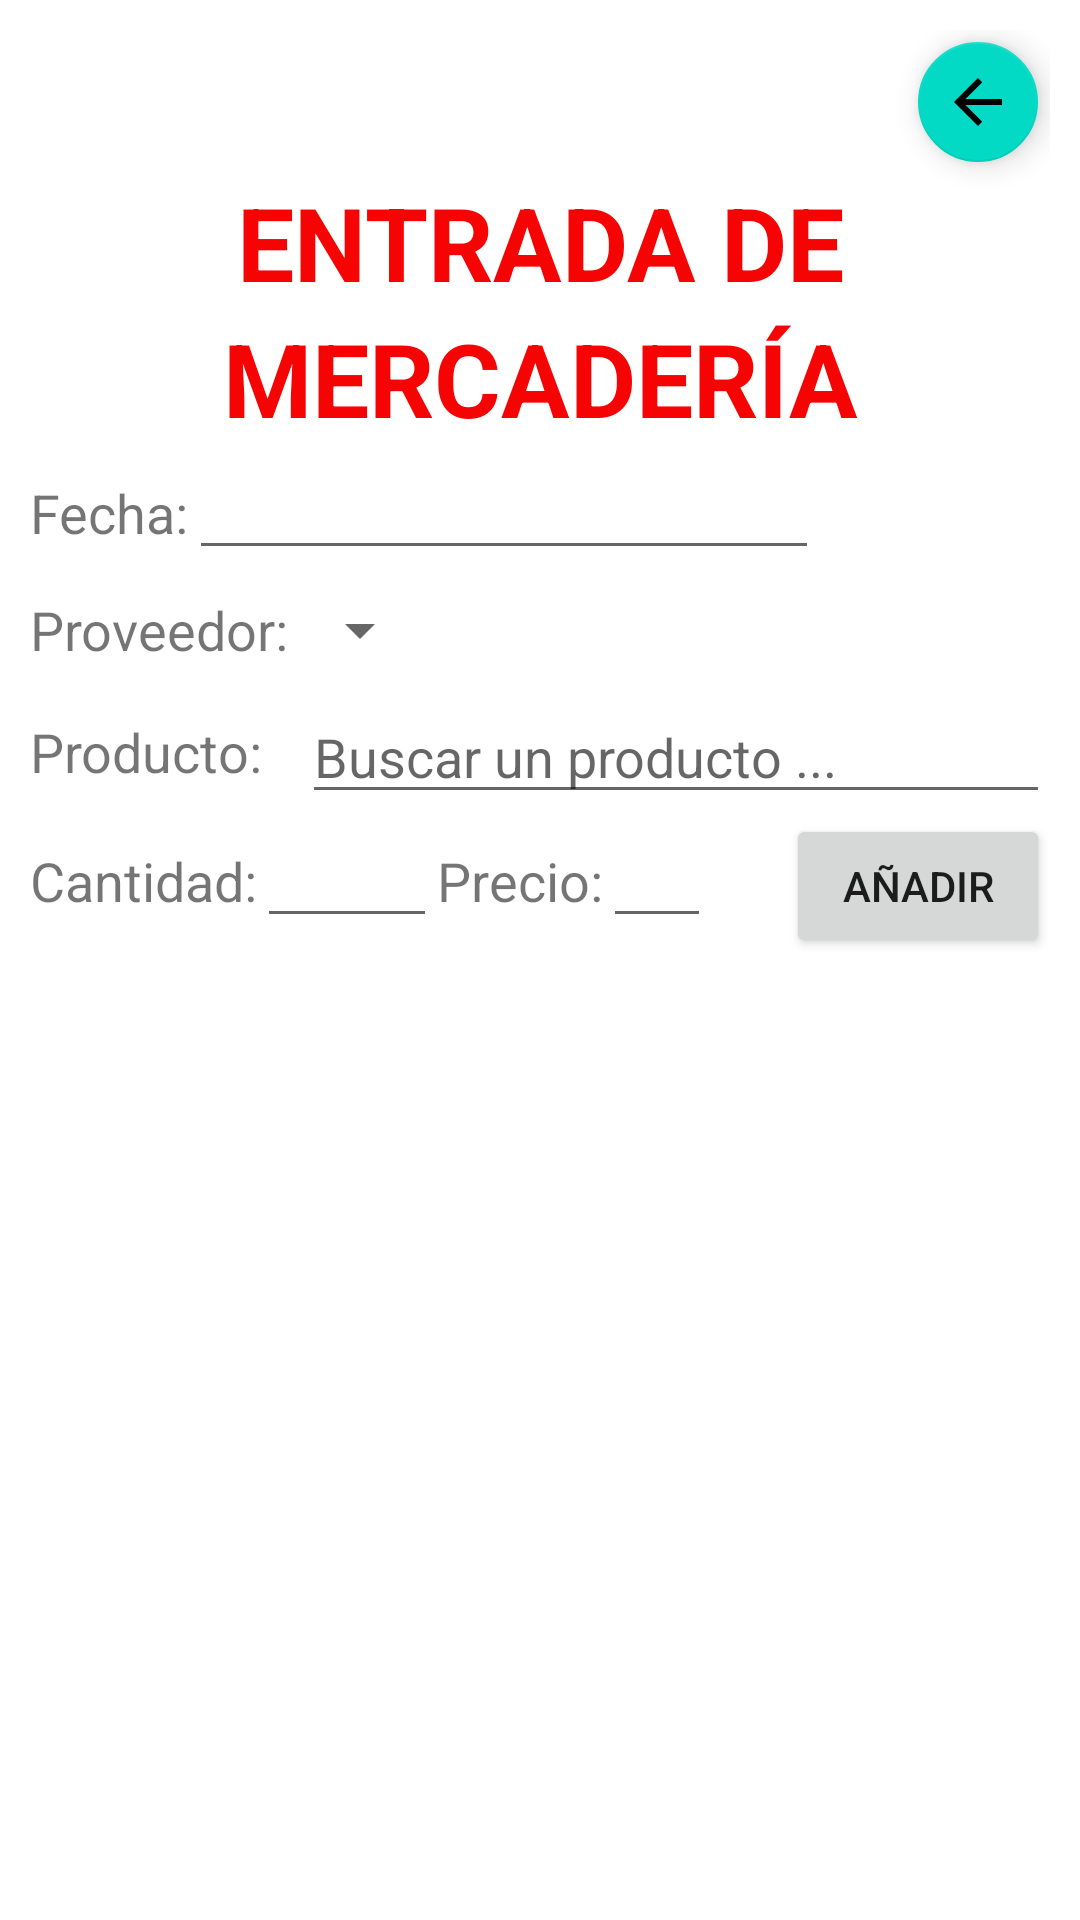

Screen size 1080px×1920px. Icon name, then its box in pixels as (x1, y1, x2, y2):
flecha atras: (918, 42, 1040, 162)
